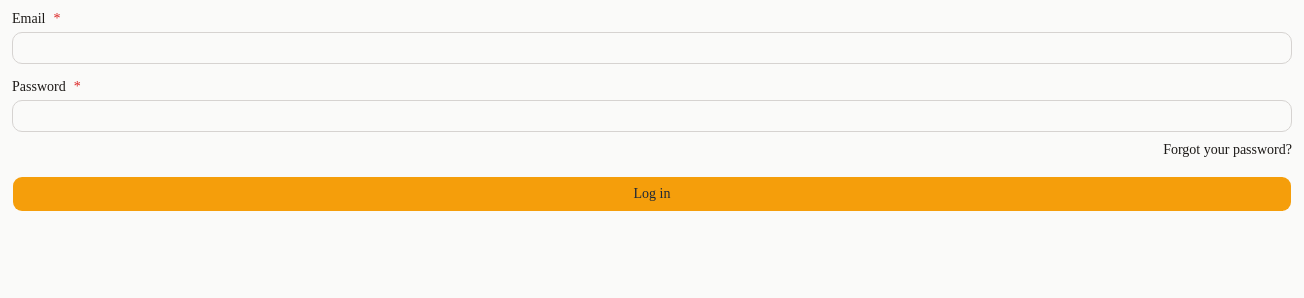
LoginForm › shows the server's answer as a translated sentence
Type "nimali@mail.lk" into the field labelled "Email *" at x=652, y=48, box [12,32,1292,64]
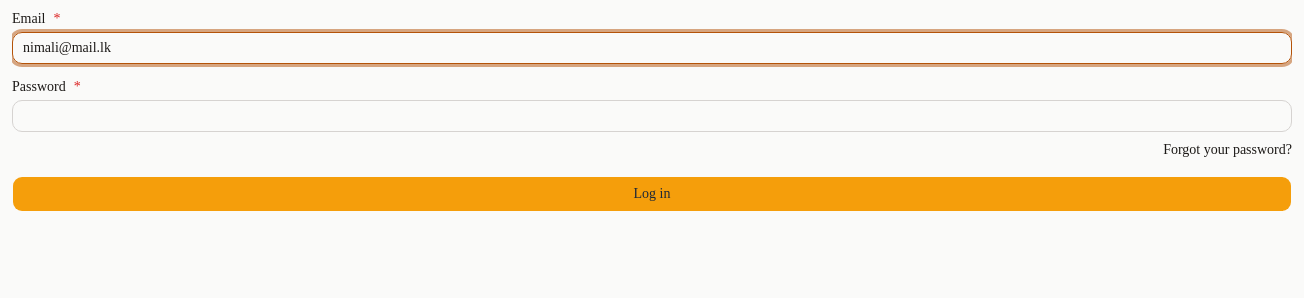
Type "wrong" into the password field labelled "Password *" at x=652, y=116, box [12,100,1292,132]
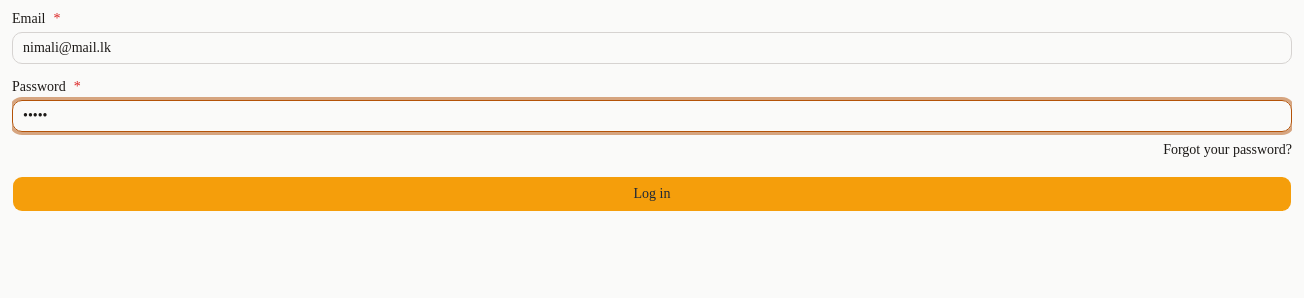
Click the button "Log in" at x=652, y=194, box [12,176,1292,212]
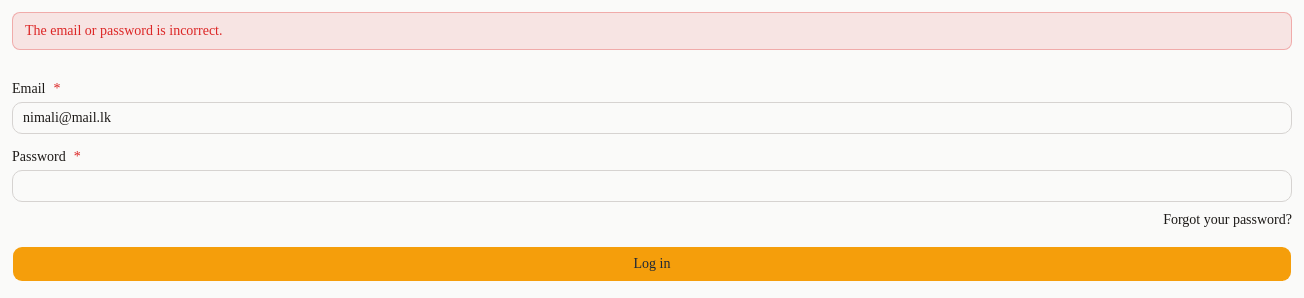
Now the message reads "The email or password is incorrect.", box [25,23,222,38]
Now the password field labelled "Password *" is empty, box [12,170,1292,202]
